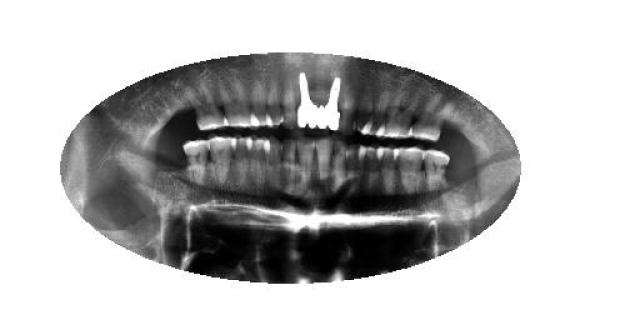Implant: (296, 75, 320, 129), (318, 75, 340, 131)
